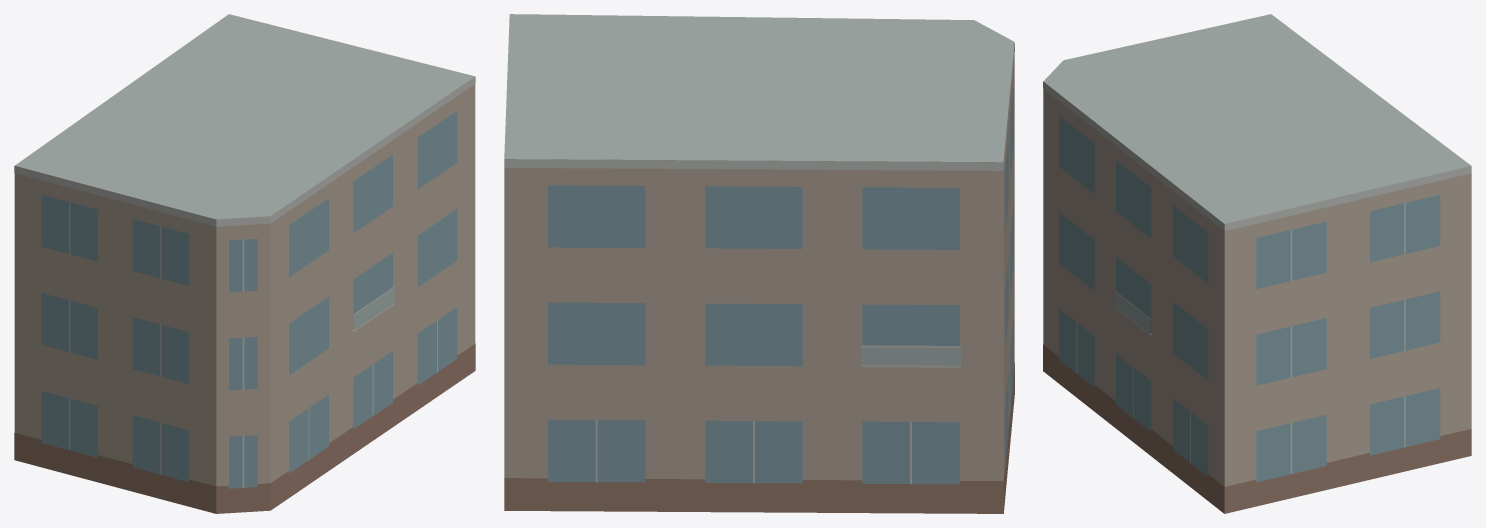
File: survey-upis-32964973.glb
3 renders of one model, left to right at view 1: azimuth 30°, elevation 25°; view 2: azimuth 150°, elevation 25°; view 3: azimuth 270°, elevation 25°, orthographic. The views are drawn at different scales.
Parts seen in each view (by area): view 1: survey-upis-32964973.tmp; view 2: survey-upis-32964973.tmp; view 3: survey-upis-32964973.tmp.
Part boxes in pixels (x1,y1,x2,y2): survey-upis-32964973.tmp: (14, 14, 475, 513); survey-upis-32964973.tmp: (504, 14, 1014, 513); survey-upis-32964973.tmp: (1043, 14, 1471, 513).
Size of the model in its own units: 15.24 by 9.8 by 13.14.
